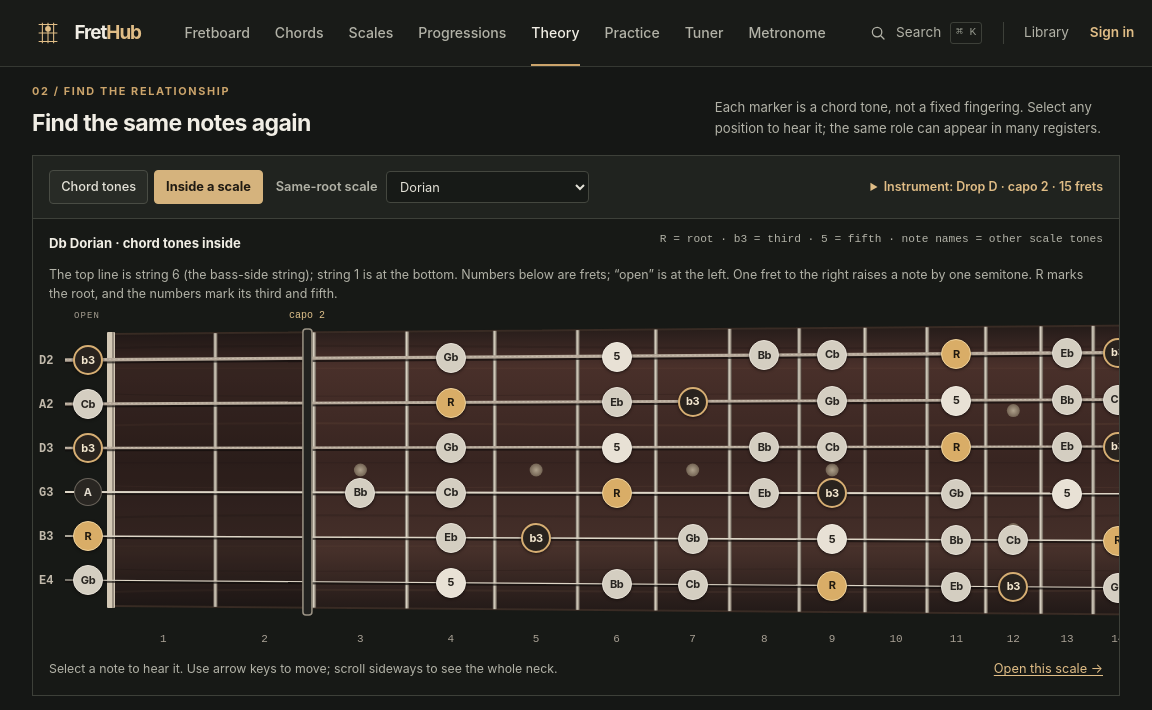
Test: connected triad study › preserves tuning, capo, spelling and physical fret positions in a deep link
The width and height of the screenshot is (1152, 710).
(page scrolled)
Check: the dropdown labelled "Same-root scale" shows "Dorian", box [386,171,589,203]
Check: the 1st text "b3" is shown, box [73,345,103,375]
Click the button named "D2 string open, capo fret 2, note E2, string 6, Fb, minor third of Db".
click(88, 360)  # box [65,338,111,382]
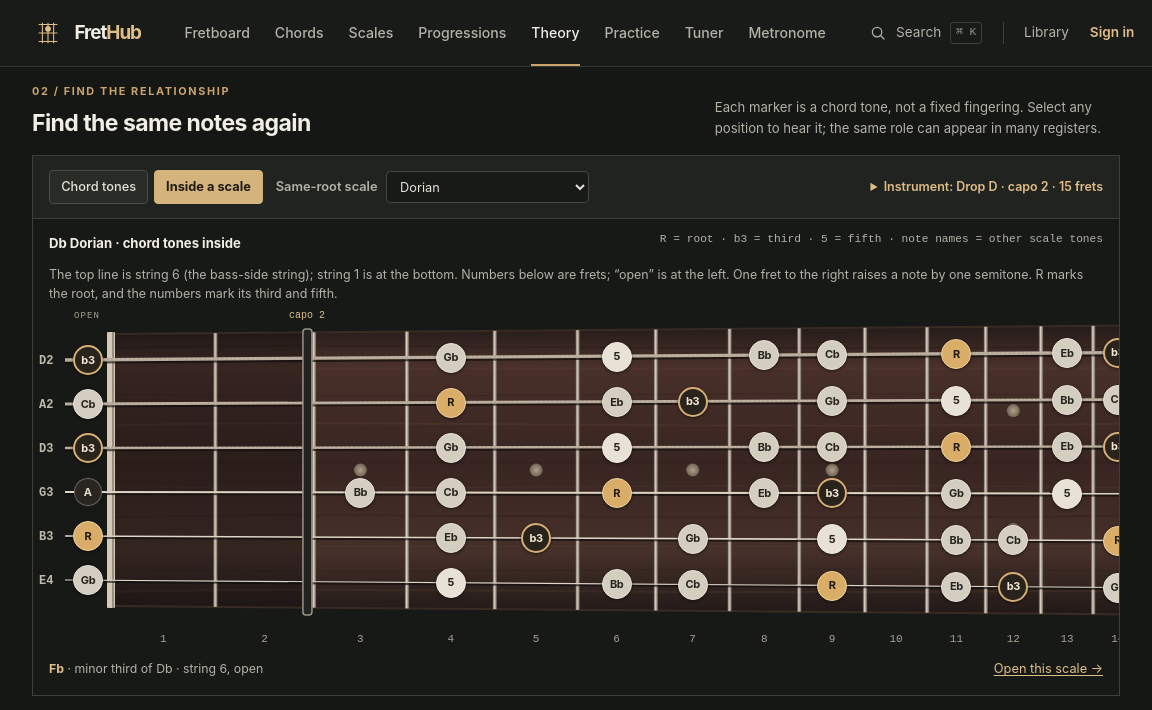
Click the heading "Instrument: Drop D · capo 2 · 15 frets".
click(987, 187)  # box [870,177,1103,197]
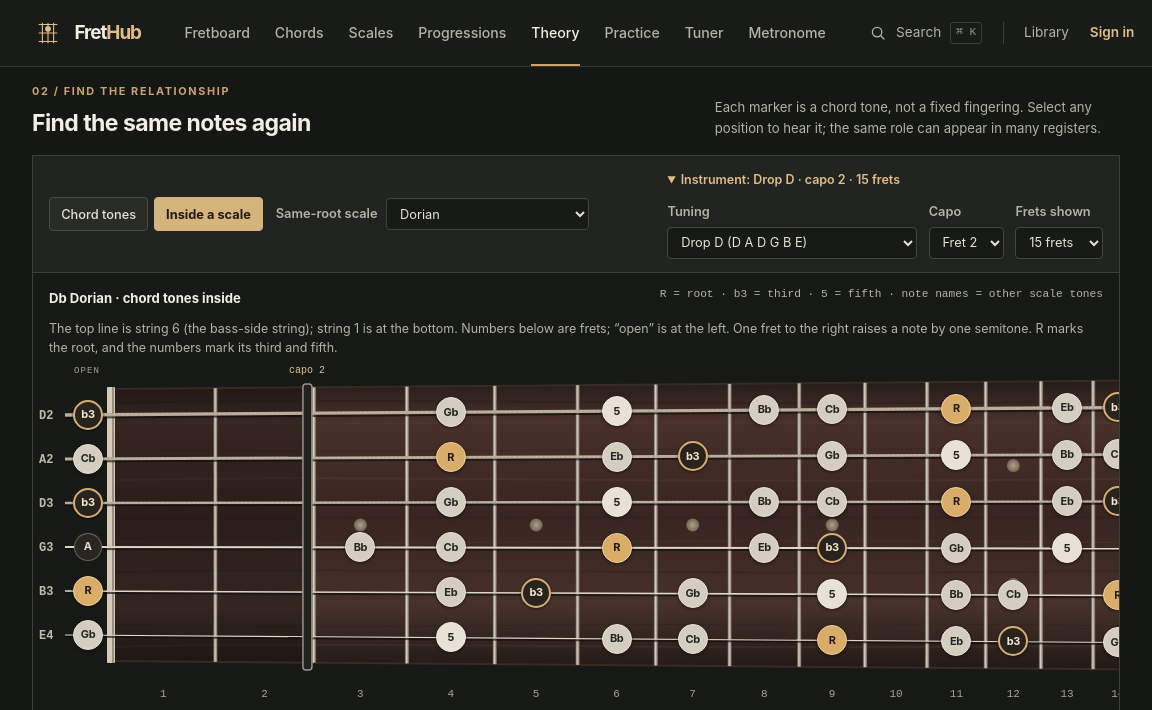
Check: the dropdown labelled "Tuning" shows "Drop D (D A D G B E)", box [667,227,917,259]
Check: the dropdown labelled "Capo" shows "Fret 2", box [929,227,1004,259]
Check: the dropdown labelled "Frets shown" shows "15 frets", box [1015,227,1103,259]
